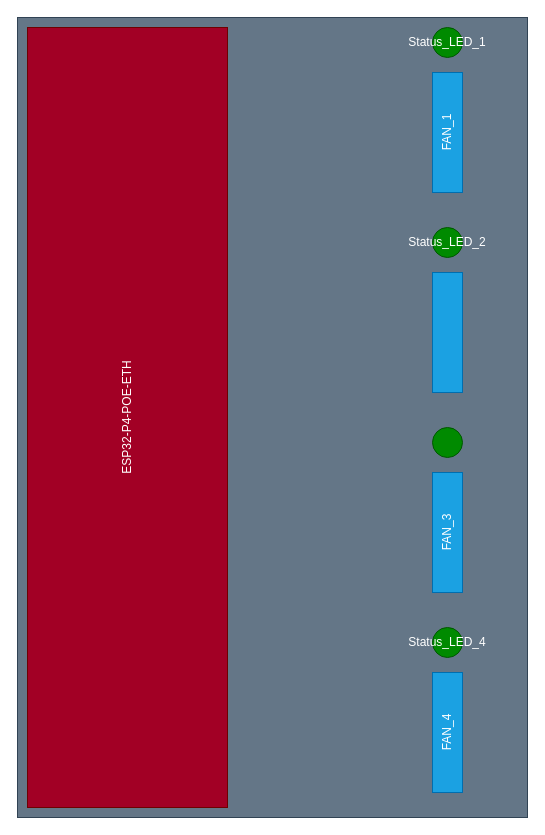
Image size: 545x835. Some labels were removed from this diagram. The shapes that lost their labels are listed below. From the top down, each one's centre as x and y in pixels, then its label:
At point (447, 332): "FAN_2".
At point (447, 442): "Status_LED_3".
